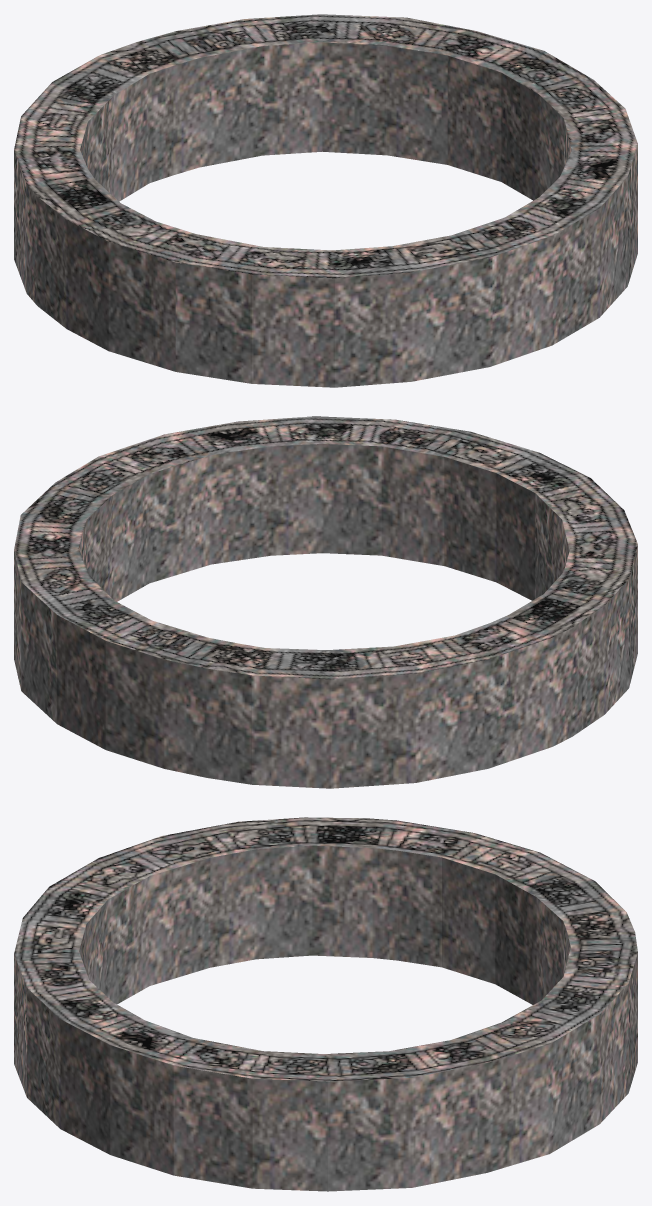
Rendered from aro3.fbx.
3 views of the same model, one above another, from view 1: azimuth 30°, elevation 25°; view 2: azimuth 150°, elevation 25°; view 3: azimuth 270°, elevation 25° (orthographic).
Visible parts, largest first — view 1: Plano.003; view 2: Plano.003; view 3: Plano.003.
Part boxes in pixels (left/top/right/bottom): Plano.003: left=14, top=14, right=637, bottom=387; Plano.003: left=14, top=416, right=637, bottom=788; Plano.003: left=14, top=817, right=637, bottom=1191.
Size of the model in its own units: 146 by 28.26 by 145.
